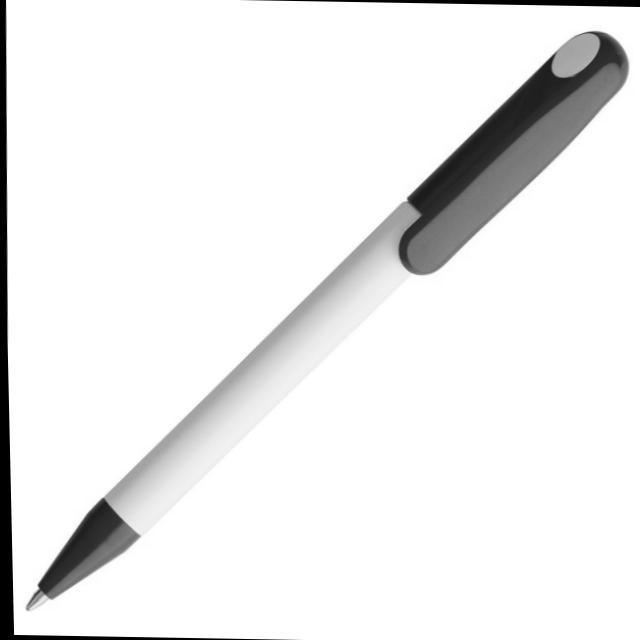pencil: (15, 5, 633, 637)
